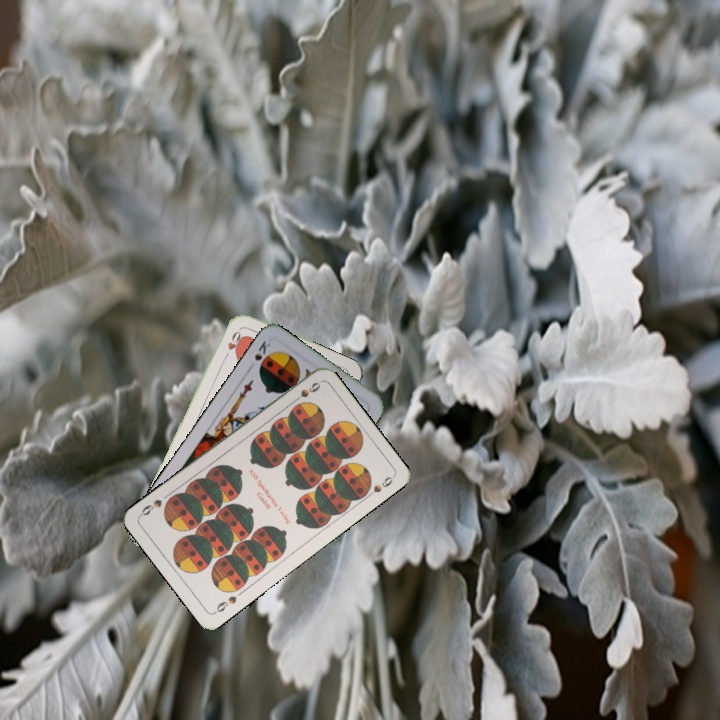HO: (219, 324, 244, 362)
S9: (287, 378, 323, 407), (210, 592, 239, 616)
SK: (250, 336, 274, 363)
